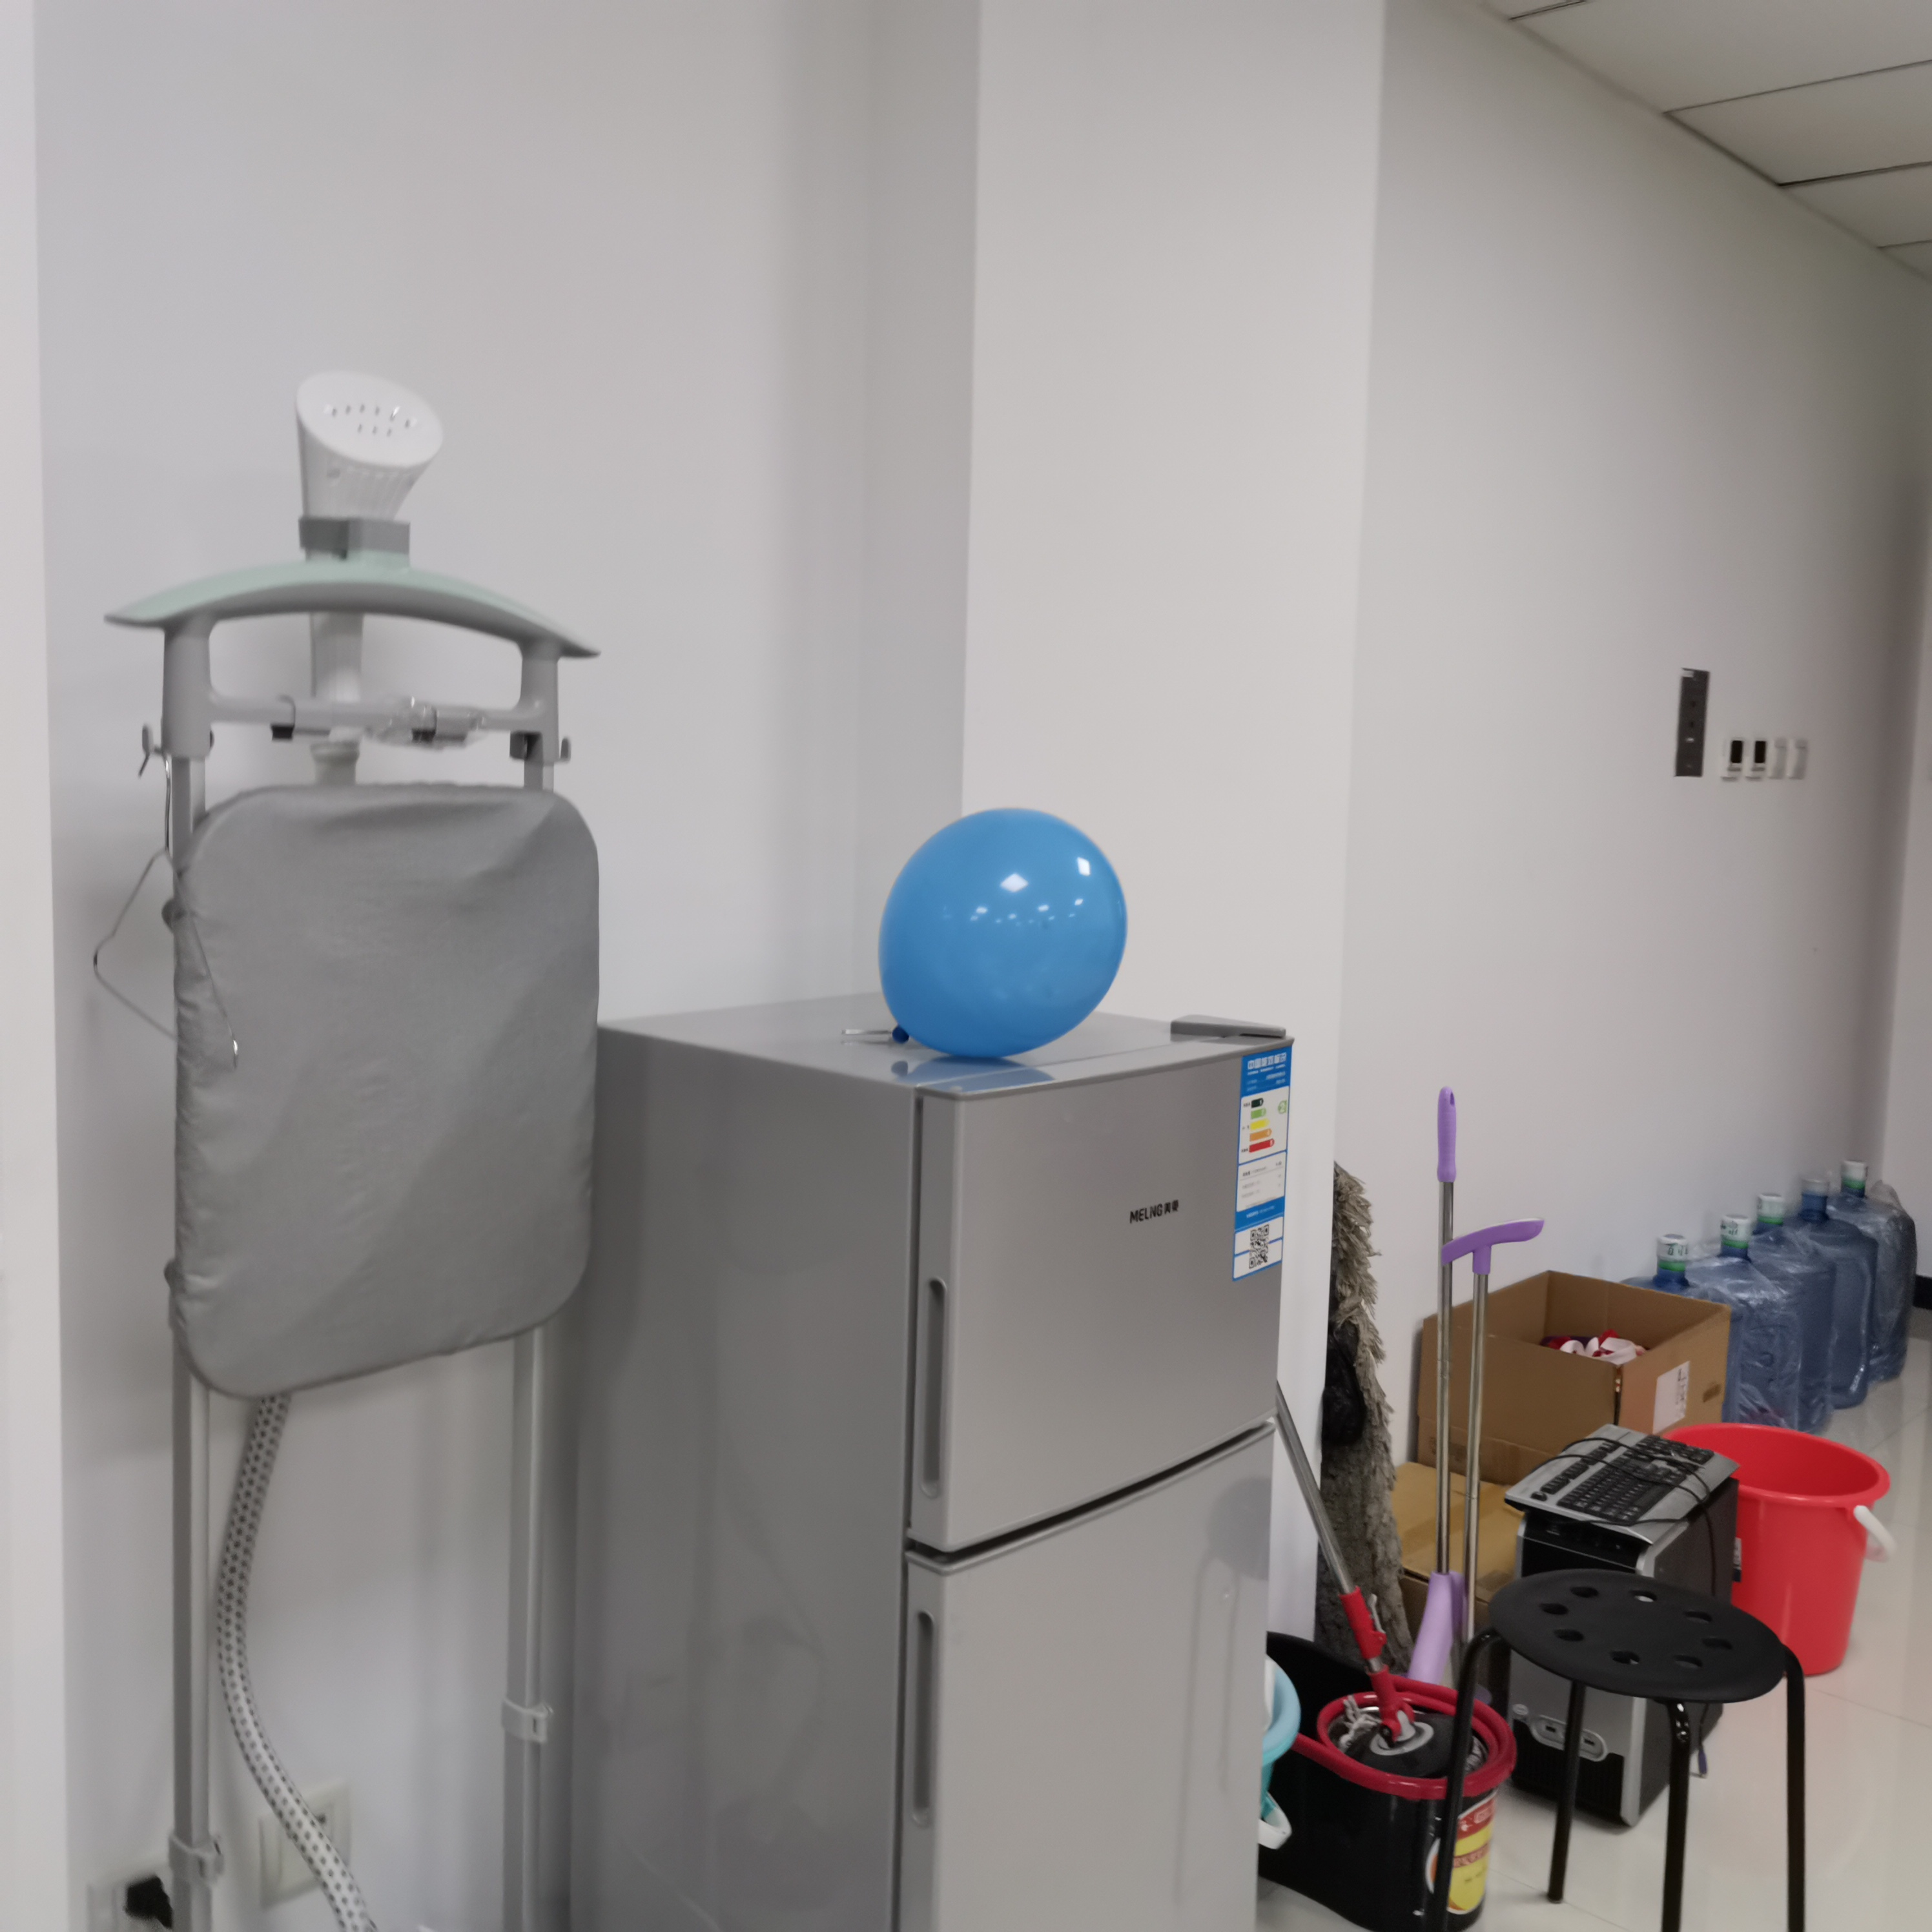balloon: (878, 805, 1129, 1053)
